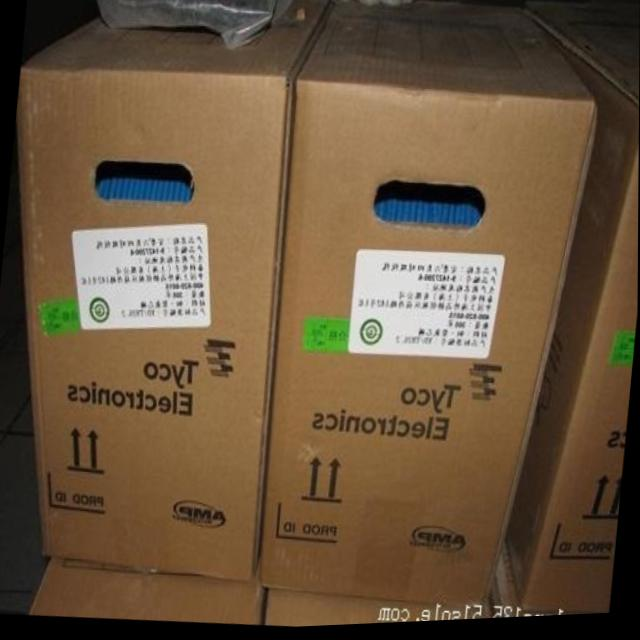box: (259, 1, 598, 615), (15, 0, 335, 584), (506, 6, 640, 619), (28, 558, 265, 627), (265, 591, 494, 629), (490, 542, 592, 623)
